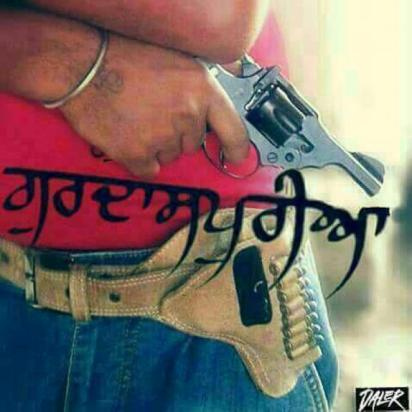Gun: (90, 47, 397, 199)
